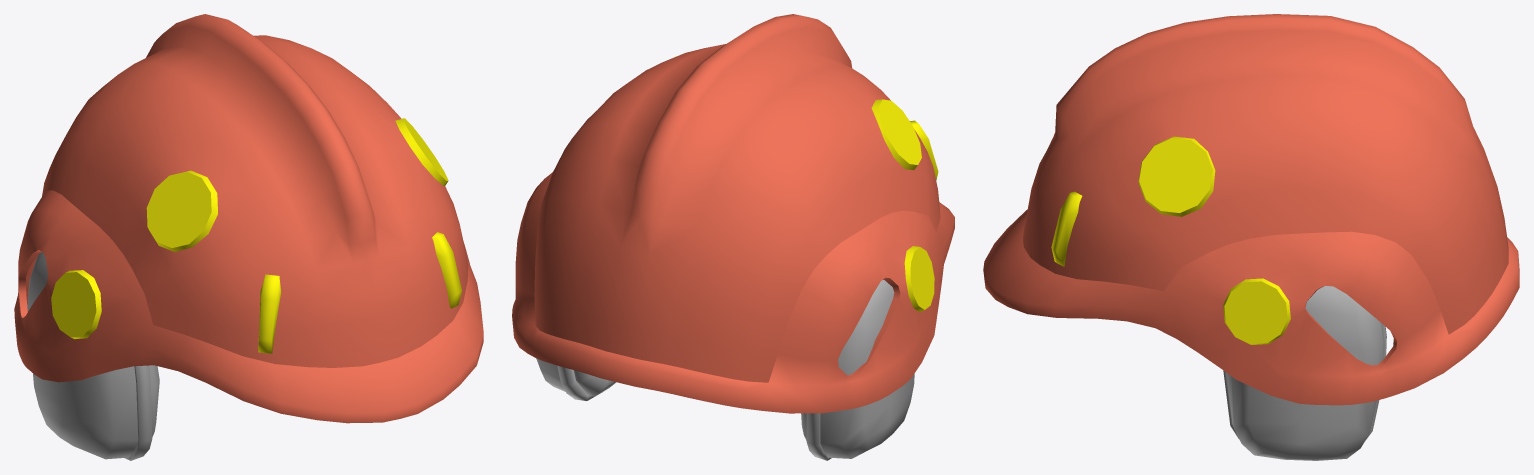
The model's file is Helmet_FireFighter.fbx.
The picture shows the model from 3 angles, left to right: view 1: azimuth 30°, elevation 25°; view 2: azimuth 150°, elevation 25°; view 3: azimuth 270°, elevation 25°; orthographic projection. The views are drawn at different scales.
Visible parts, largest first — view 1: Helmet_FireFighter; view 2: Helmet_FireFighter; view 3: Helmet_FireFighter.
Part boxes in pixels (x1,y1,x2,y2): Helmet_FireFighter: (14,14,483,460); Helmet_FireFighter: (512,14,954,460); Helmet_FireFighter: (983,14,1519,460).
Bounding box in the file's own units: 455 × 425 × 549.
